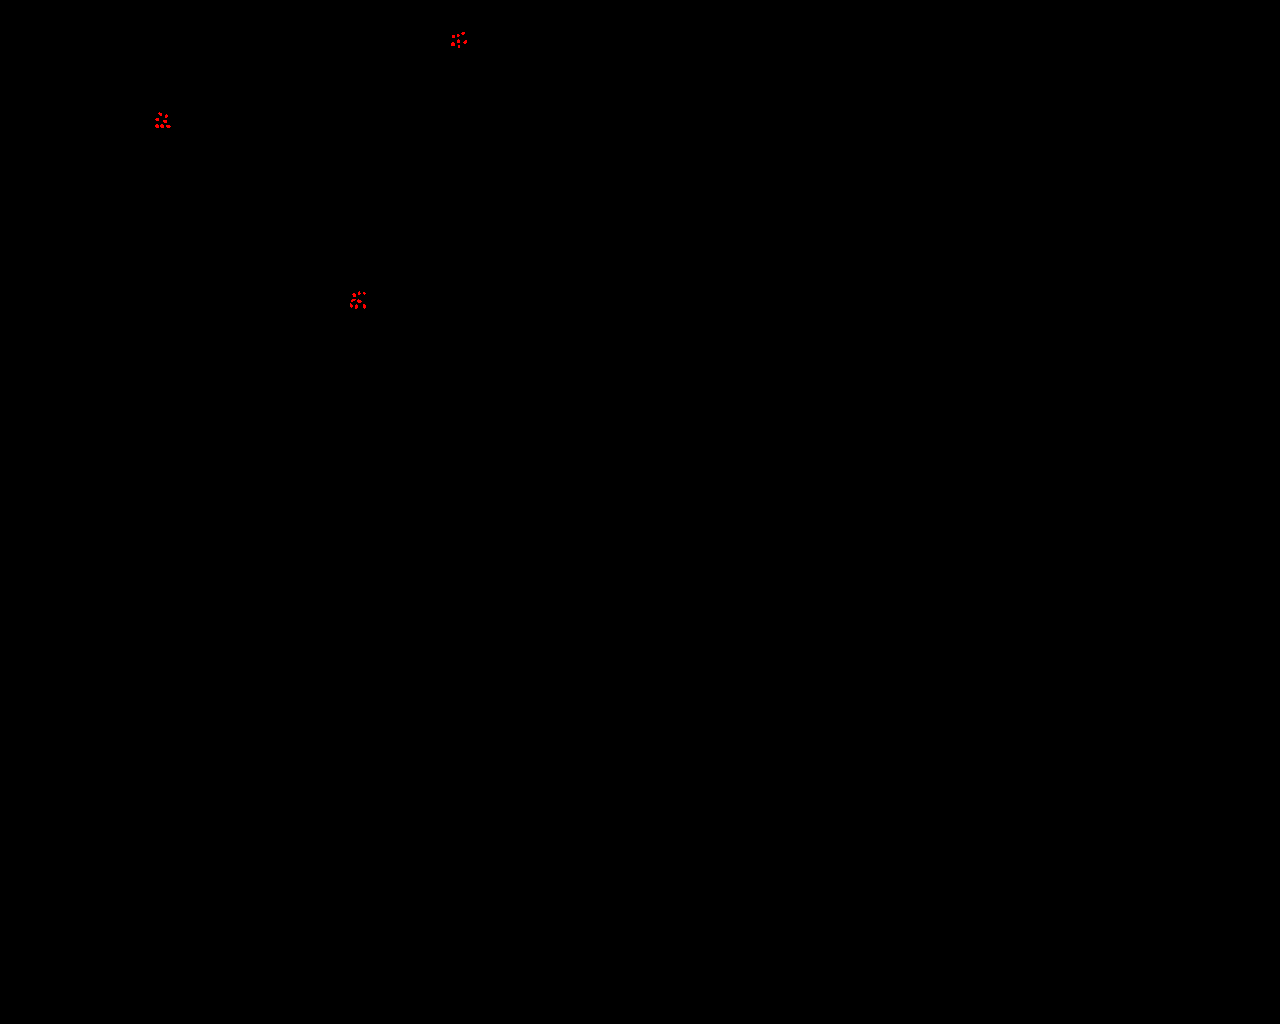Target: (463, 40, 467, 44), (158, 112, 162, 116), (352, 293, 356, 297), (357, 299, 362, 303), (351, 299, 356, 302), (350, 303, 353, 308), (355, 304, 358, 309), (363, 304, 366, 309), (457, 39, 460, 43), (451, 42, 455, 46), (165, 114, 168, 118), (155, 118, 159, 121), (163, 120, 167, 123), (155, 124, 159, 127), (160, 124, 164, 127), (166, 125, 171, 127), (363, 292, 366, 295), (461, 32, 465, 34), (358, 290, 360, 295), (457, 34, 460, 37), (452, 34, 455, 38), (458, 45, 460, 48)
